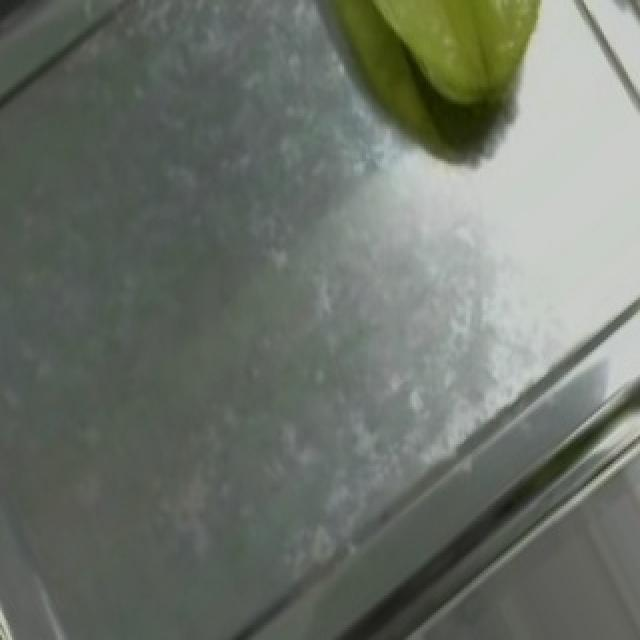fruit: (298, 0, 580, 154)
